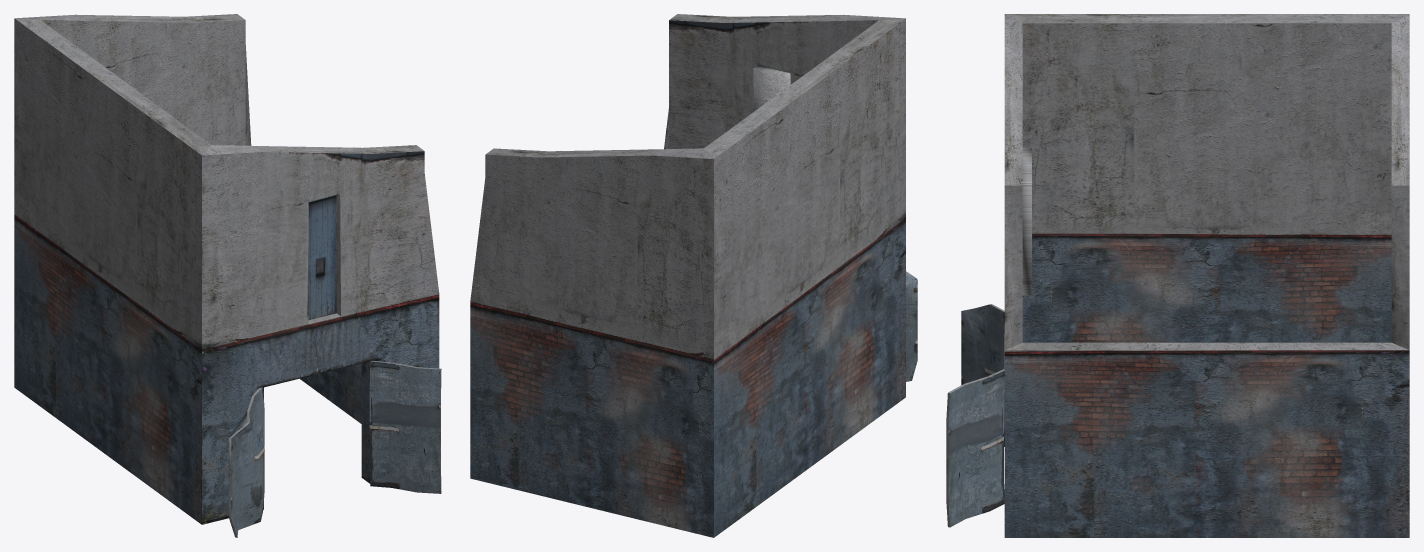
The model's file is building1.obj.
3 views of the same model, side by side, from view 1: azimuth 30°, elevation 25°; view 2: azimuth 150°, elevation 25°; view 3: azimuth 270°, elevation 25° (orthographic). The views are drawn at different scales.
Visible parts, largest first — view 1: material25; view 2: material25; view 3: material25.
Part boxes in pixels (left/top/right/bottom): material25: left=14, top=14, right=441, bottom=537; material25: left=470, top=14, right=917, bottom=537; material25: left=946, top=14, right=1409, bottom=537.
Bounding box in the file's own units: 244 × 365 × 382.
Materials: 1 (1 with a texture image).
